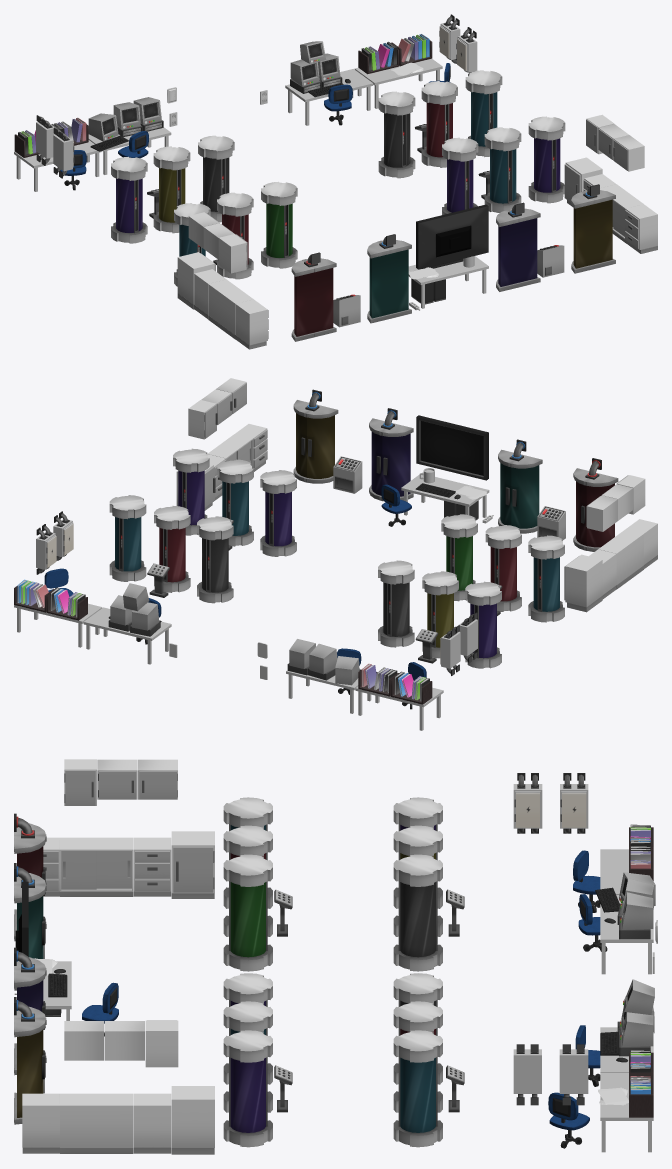
Rendered from Room01Set2.FBX.
3 renders of one model, top to bottom at view 1: azimuth 30°, elevation 25°; view 2: azimuth 150°, elevation 25°; view 3: azimuth 270°, elevation 25°, orthographic. The views are drawn at different scales.
Parts seen in each view (by area): view 1: moniter0 001, object026, object017, object025, object019, object016, object023, object021, object6, object022, object024, object010 (+39 smaller); view 2: moniter0 001, object022, object024, object026, object6, object020, object021, object016, object018, object025, object0, object010 (+33 smaller); view 3: object024, object022, object019, object017, chestbox023, chestbox4, chestbox022, object00, chestbox024, Object066, chestbox026, chestbox029 (+40 smaller).
Part boxes in pixels (x1=…): moniter0 001: x1=416, y1=204, x2=488, y2=269; object026: x1=378, y1=91, x2=415, y2=178; object017: x1=528, y1=116, x2=565, y2=203; object025: x1=111, y1=156, x2=147, y2=243; object019: x1=261, y1=181, x2=297, y2=268; object016: x1=484, y1=127, x2=521, y2=212; object023: x1=153, y1=146, x2=190, y2=233; object021: x1=421, y1=81, x2=457, y2=167; object6: x1=442, y1=137, x2=478, y2=214; object022: x1=465, y1=70, x2=502, y2=157; object024: x1=198, y1=135, x2=234, y2=222; object010: x1=367, y1=240, x2=392, y2=323; moniter0 001: x1=416, y1=415, x2=488, y2=480; object022: x1=109, y1=495, x2=146, y2=581; object024: x1=378, y1=560, x2=414, y2=647; object026: x1=197, y1=516, x2=233, y2=603; object6: x1=260, y1=470, x2=296, y2=556; object020: x1=528, y1=535, x2=564, y2=622; object021: x1=154, y1=506, x2=190, y2=592; object016: x1=217, y1=459, x2=253, y2=546; object018: x1=485, y1=525, x2=521, y2=611; object025: x1=465, y1=581, x2=501, y2=668; object0: x1=304, y1=405, x2=338, y2=483; object010: x1=508, y1=455, x2=542, y2=533; object024: x1=393, y1=854, x2=442, y2=971; object022: x1=393, y1=1030, x2=442, y2=1147; object019: x1=223, y1=854, x2=272, y2=971; object017: x1=223, y1=1030, x2=272, y2=1147; chestbox023: x1=60, y1=1093, x2=133, y2=1153; chestbox4: x1=171, y1=1086, x2=214, y2=1154; chestbox022: x1=133, y1=1093, x2=171, y2=1153; object00: x1=14, y1=1018, x2=46, y2=1124; chestbox024: x1=22, y1=1093, x2=59, y2=1153; Object066: x1=173, y1=846, x2=214, y2=892; chestbox026: x1=60, y1=837, x2=133, y2=896; chestbox029: x1=64, y1=1021, x2=104, y2=1060.
Bounding box in the file's own units: 120 × 25.72 × 120.
